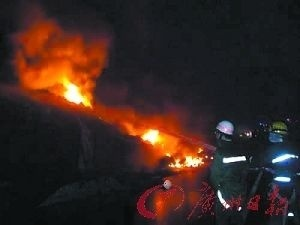fire: (135, 125, 208, 170), (55, 73, 94, 106)
